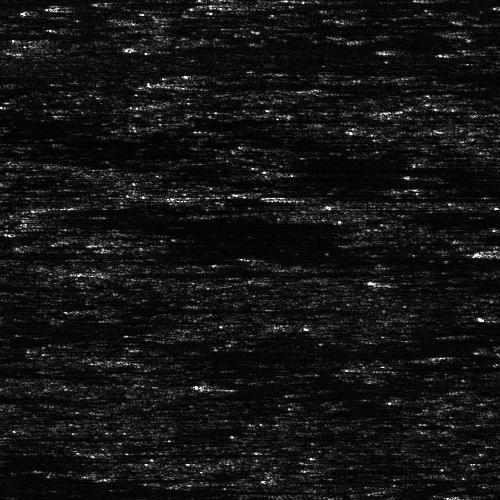object: (400, 487, 500, 500), (193, 0, 298, 12), (58, 265, 151, 278), (123, 78, 216, 89), (171, 377, 244, 390), (329, 276, 434, 285), (281, 84, 374, 93), (68, 447, 141, 458), (334, 363, 407, 372), (117, 44, 180, 51), (420, 352, 483, 359), (47, 308, 120, 313), (481, 1, 500, 12), (154, 101, 185, 106), (393, 172, 434, 175), (485, 224, 500, 231), (479, 315, 500, 320)
shadow: (208, 377, 500, 390), (169, 78, 425, 89), (105, 447, 271, 458), (0, 475, 96, 494), (0, 486, 285, 491), (149, 44, 318, 51), (105, 265, 188, 278), (246, 0, 332, 12), (382, 276, 473, 285), (371, 363, 460, 372), (328, 84, 416, 93), (0, 389, 51, 400), (0, 452, 87, 457), (170, 101, 255, 106), (84, 308, 169, 313), (451, 352, 500, 359), (414, 172, 500, 175)
